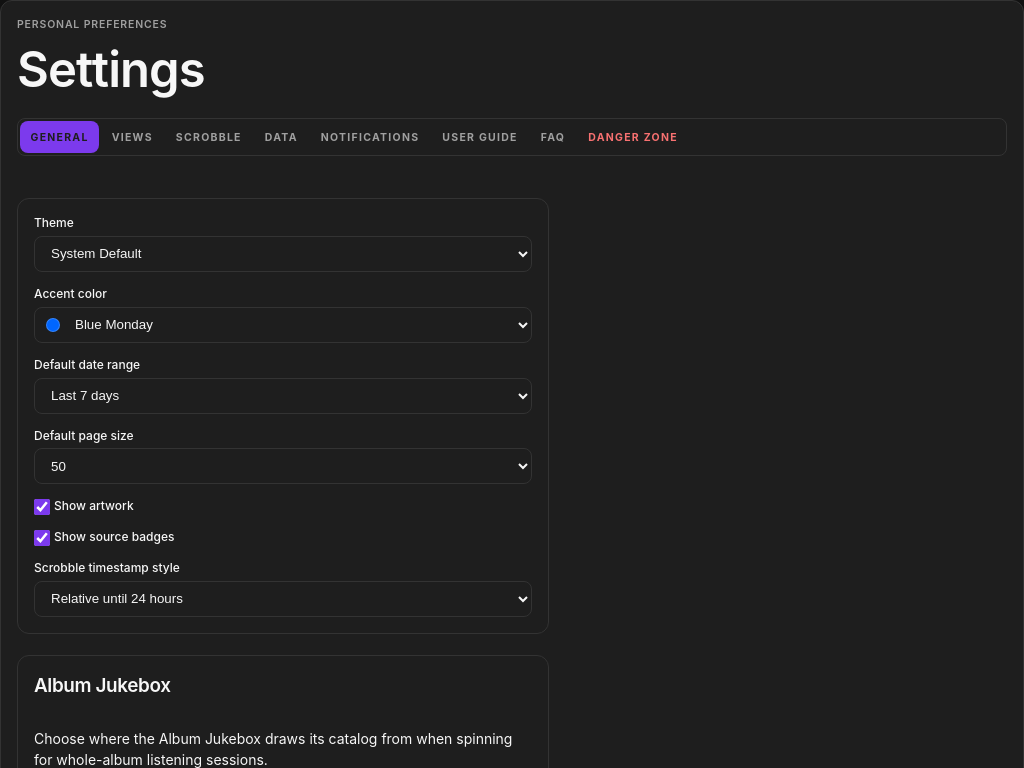
Test: SettingsPage › preserves form state when switching tabs
# Switch to Danger Zone
Click the tab "Danger Zone" at point(633, 137), box [578,121,688,153]
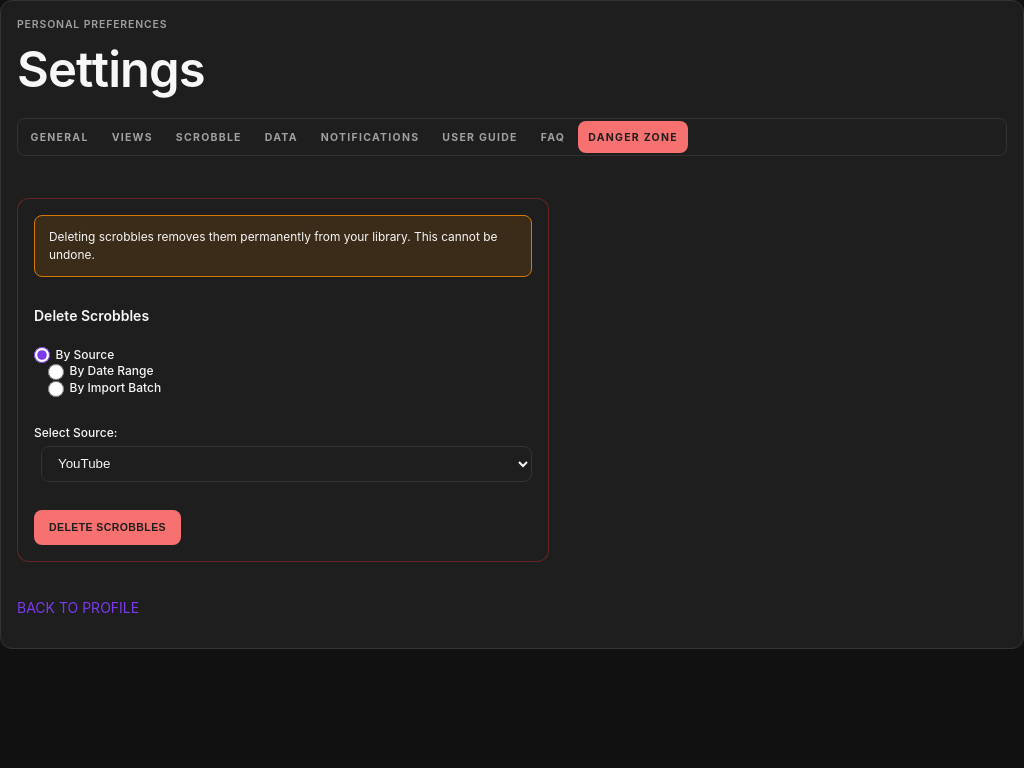
# Select "By Date Range" mode and set dates
Click the radio button labelled "By Date Range" at point(56, 372), box [48,364,64,380]
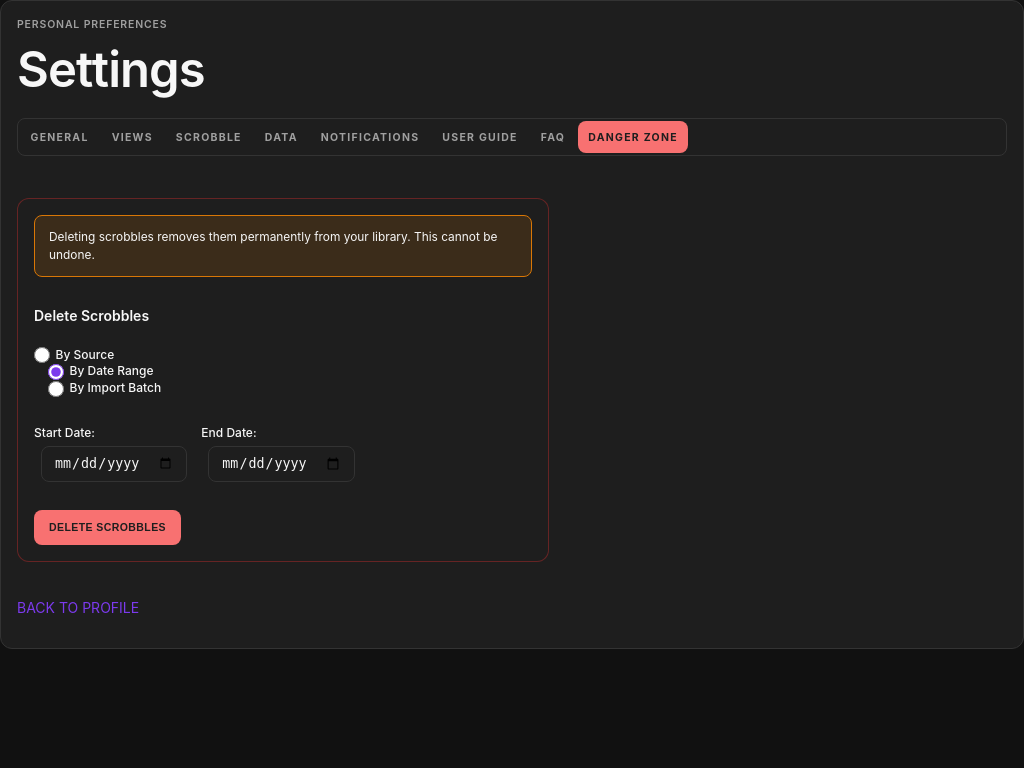
Type "2025-01-01" into the date field labelled "Start Date:" at point(114, 464), box [41,446,187,482]
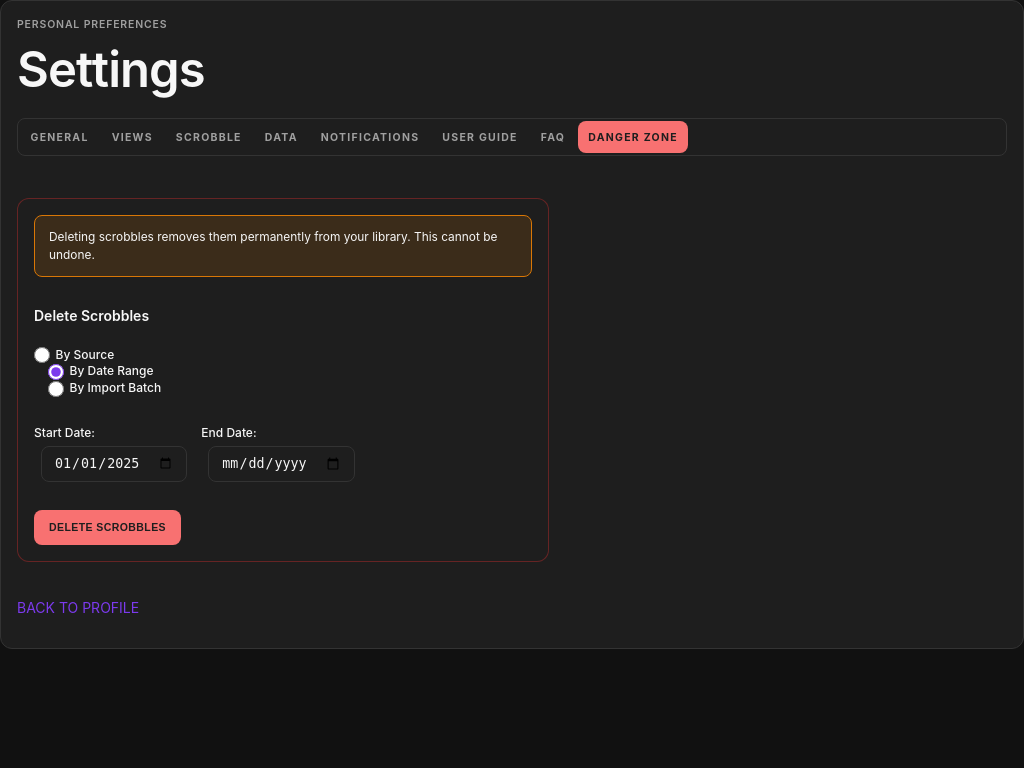
# Switch away to General tab
Click the tab "General" at point(60, 137), box [20,121,99,153]
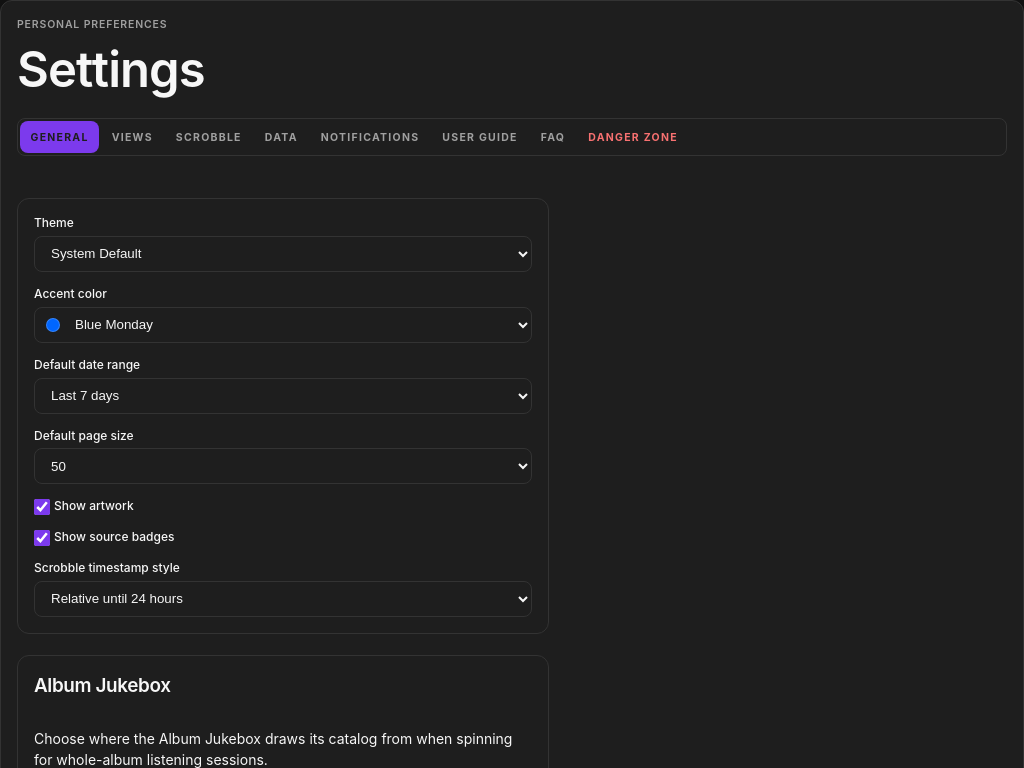
Expected: the dropdown labelled "Default date range" is shown, [34,378,532,414]
# Switch back to Danger Zone tab
Click the tab "Danger Zone" at point(633, 137), box [578,121,688,153]
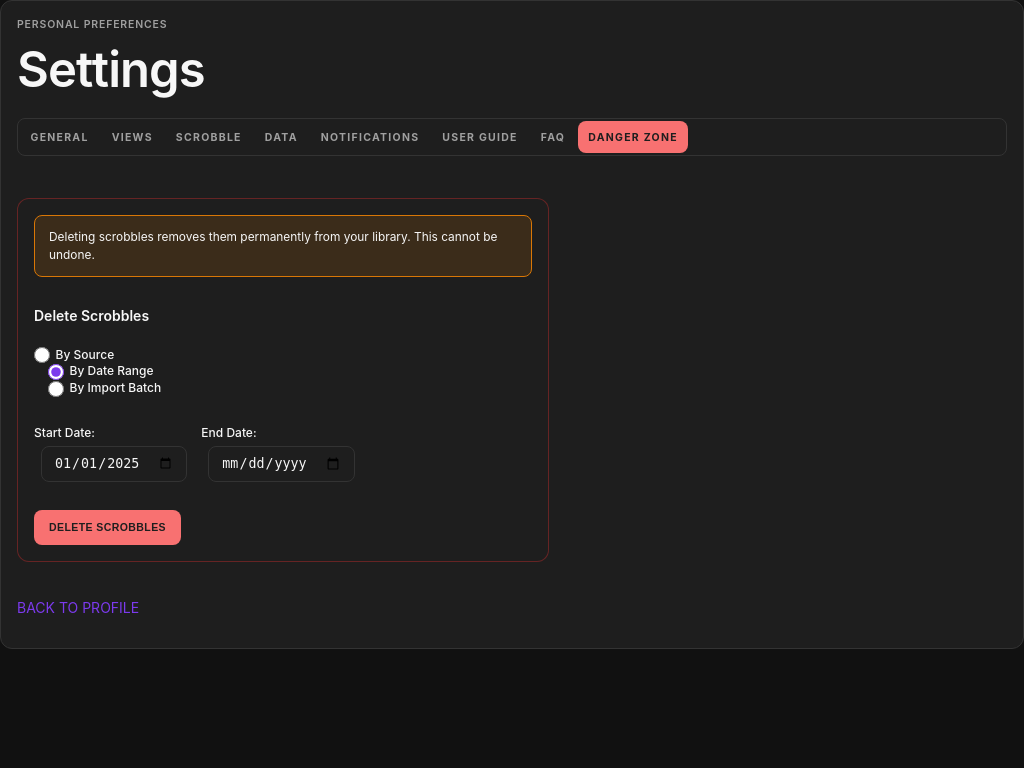
Expected: the radio button labelled "By Date Range" is checked, [48,364,64,380]
Expected: the date field labelled "Start Date:" holds "2025-01-01", [41,446,187,482]
